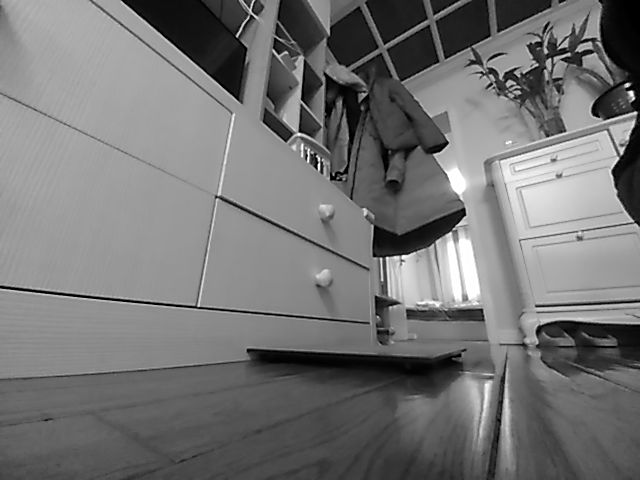scale: (245, 342, 469, 371)
shoe: (575, 327, 619, 348), (539, 326, 574, 348)
